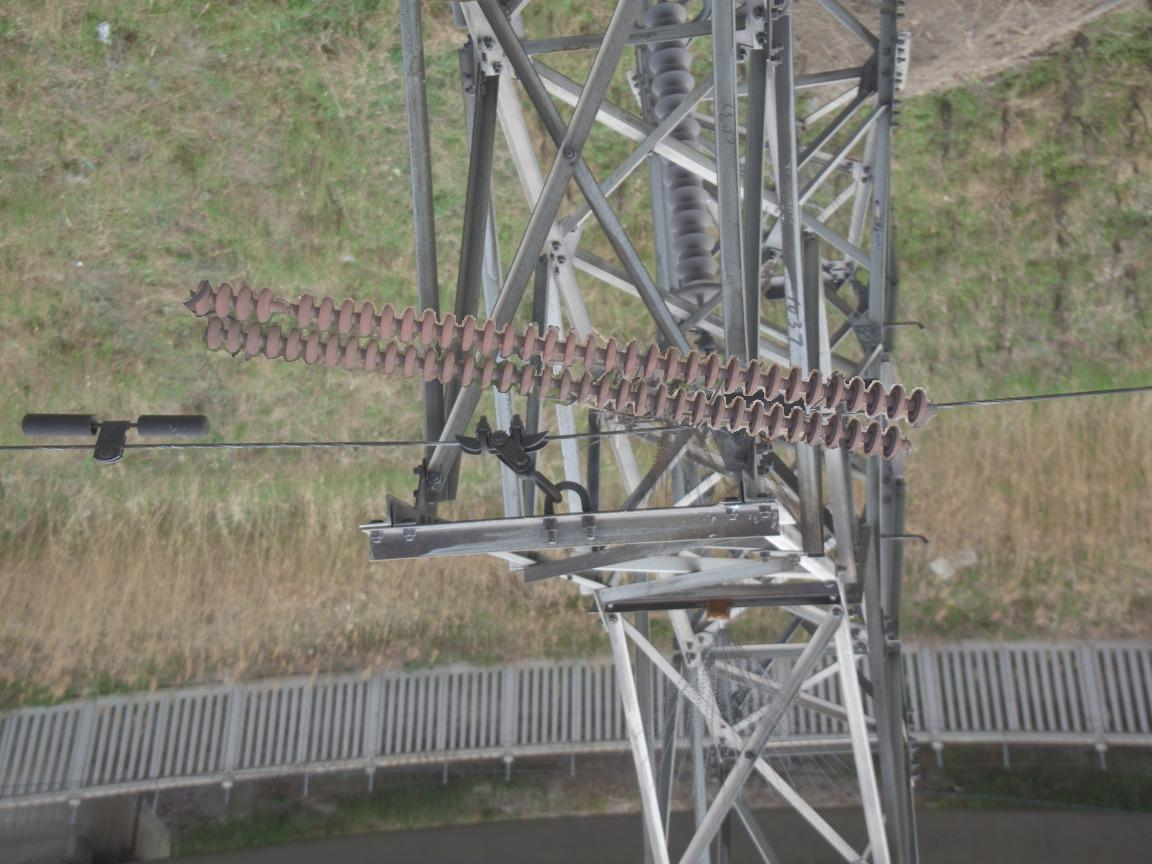insulator: (182, 279, 933, 463), (644, 1, 719, 286)
insulator_stringdrop: (250, 284, 320, 332)
